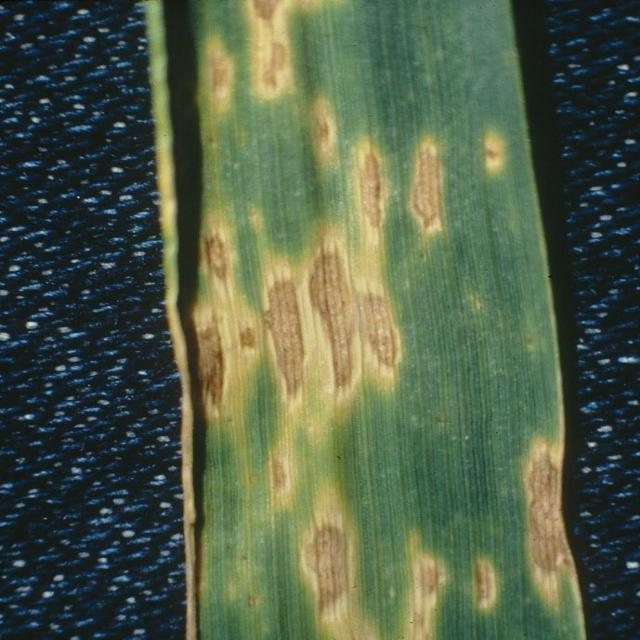blight: (204, 44, 506, 583)
